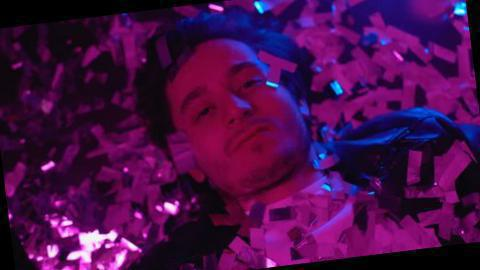Drunk: (175, 47, 294, 171)
